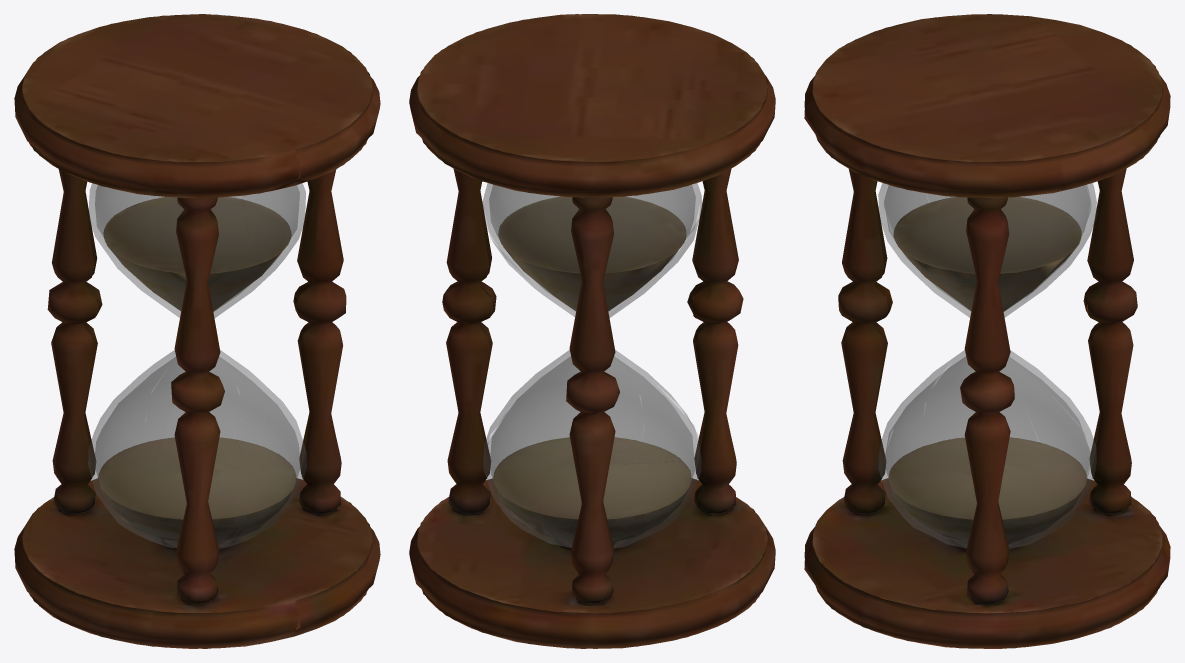
Rendered from obj_hourglass.glb.
3 renders of one model, left to right at view 1: azimuth 30°, elevation 25°; view 2: azimuth 150°, elevation 25°; view 3: azimuth 270°, elevation 25°, orthographic.
Parts seen in each view (by area): view 1: Object_2; view 2: Object_2; view 3: Object_2.
Part boxes in pixels (left/top/right/bottom): Object_2: left=14, top=14, right=380, bottom=648; Object_2: left=409, top=14, right=775, bottom=648; Object_2: left=804, top=14, right=1170, bottom=648.
Size of the model in its own units: 0.163 by 0.24 by 0.1632.
2 materials, 1 textured.
